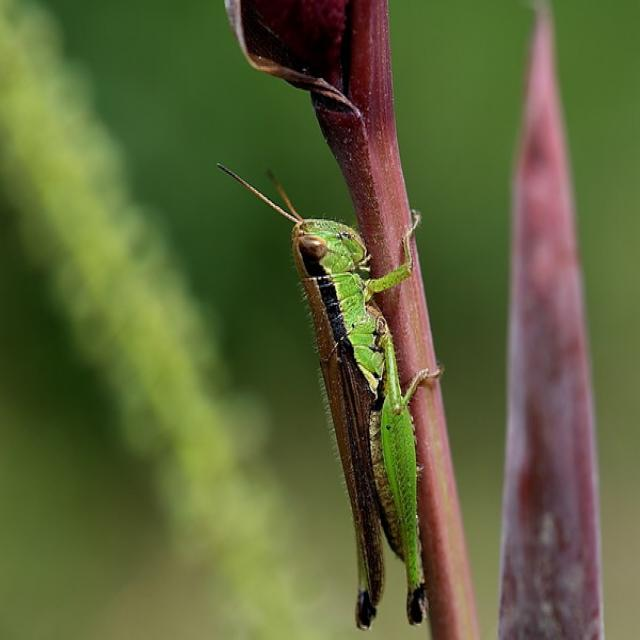ZhaMeng: (233, 163, 462, 624)
